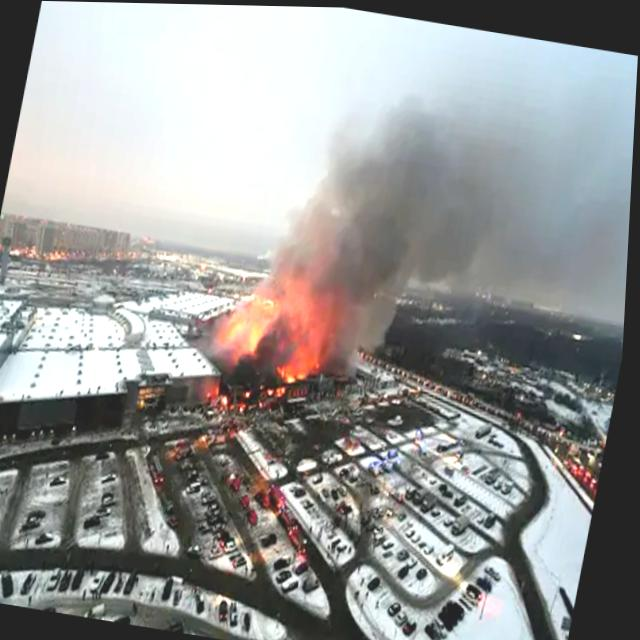helmet: (217, 250, 347, 398)
no_helmet: (287, 5, 623, 322)
